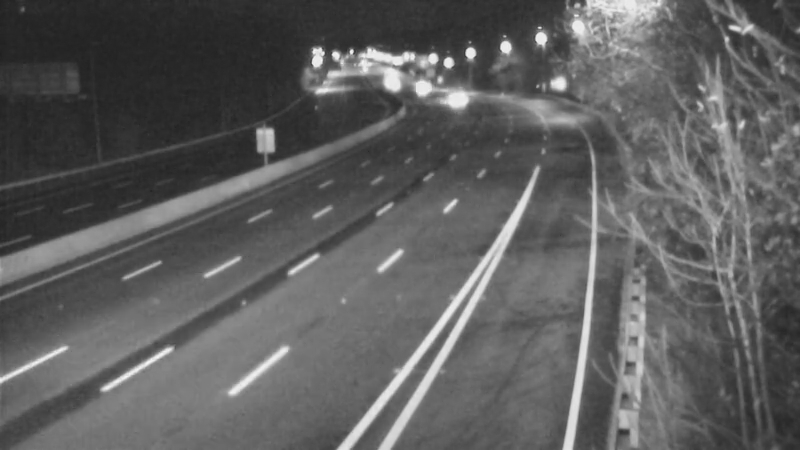vehicle: (366, 59, 416, 109), (394, 62, 444, 112), (425, 75, 475, 125)
